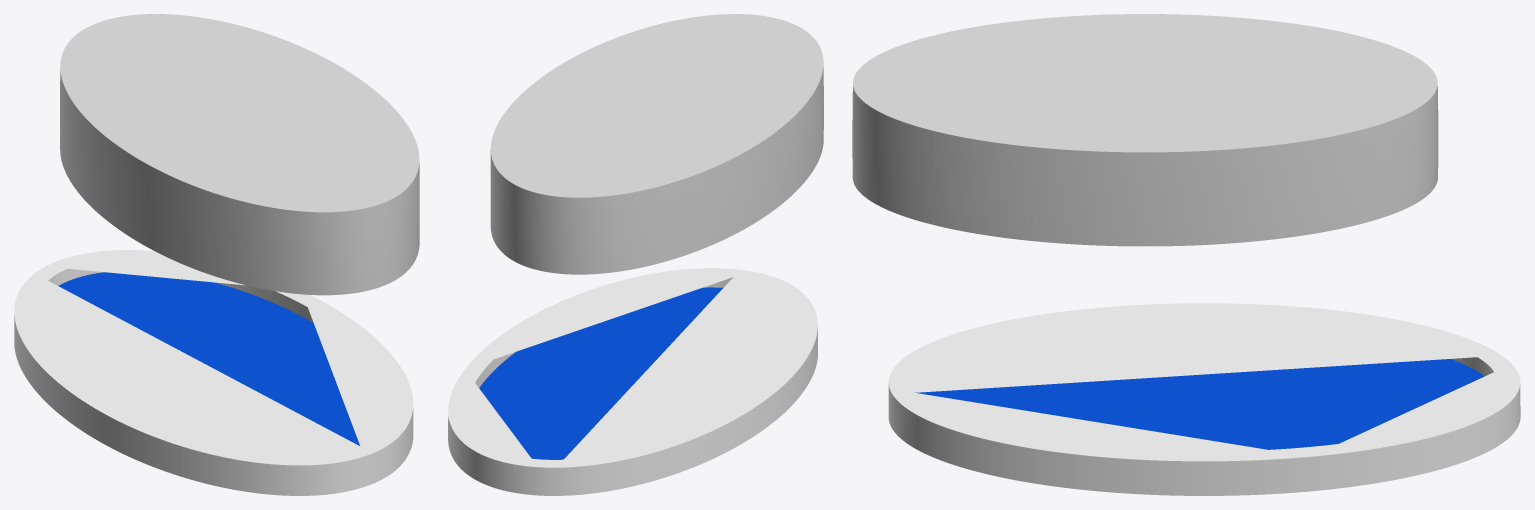
The model's file is NameBox.fbx.
3 renders of one model, left to right at view 1: azimuth 30°, elevation 25°; view 2: azimuth 150°, elevation 25°; view 3: azimuth 270°, elevation 25°, orthographic. The views are drawn at different scales.
Visible parts, largest first — view 1: Cylinder, Cylinder.001; view 2: Cylinder, Cylinder.001; view 3: Cylinder, Cylinder.001.
Part boxes in pixels (x1,y1,x2,y2): Cylinder: [60, 14, 419, 295]; Cylinder.001: [14, 250, 413, 495]; Cylinder: [490, 14, 823, 274]; Cylinder.001: [448, 268, 817, 495]; Cylinder: [852, 14, 1438, 246]; Cylinder.001: [888, 303, 1520, 495].
Size of the model in its own units: 317 by 312 by 566.
